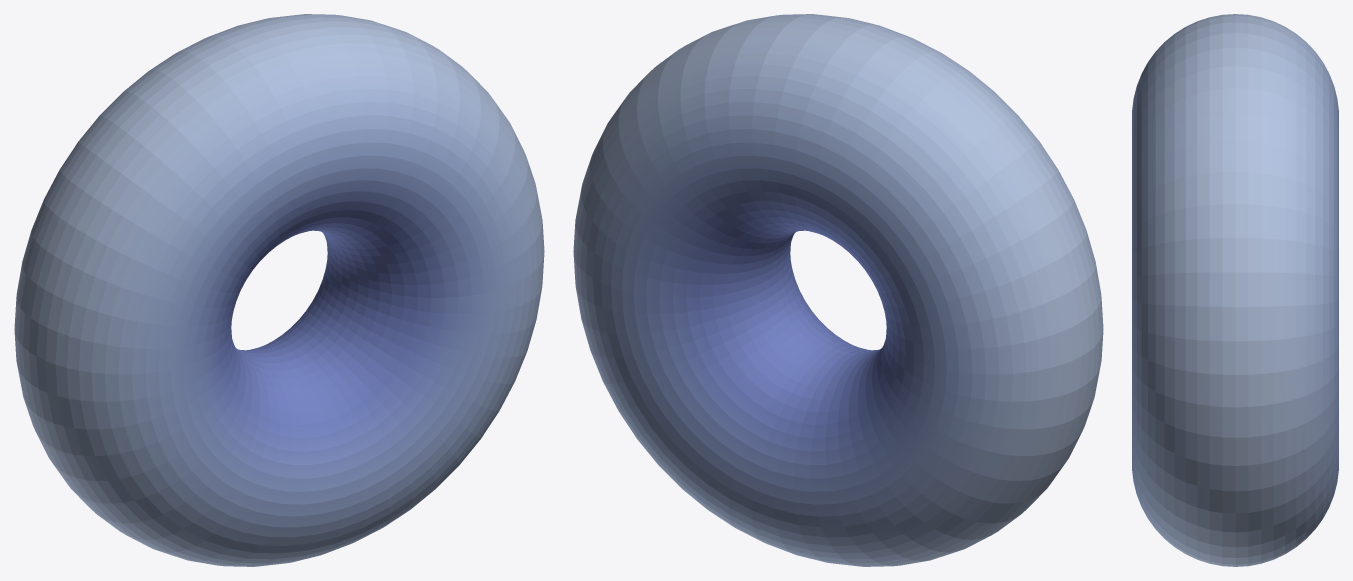
3 renders of one model, left to right at view 1: azimuth 30°, elevation 25°; view 2: azimuth 150°, elevation 25°; view 3: azimuth 270°, elevation 25°, orthographic. The views are drawn at different scales.
Visible parts, largest first — view 1: world; view 2: world; view 3: world.
Part boxes in pixels (x1,y1,x2,y2): world: (14, 14, 544, 566); world: (573, 14, 1103, 566); world: (1132, 14, 1338, 566).
Bounding box in the file's own units: 18.13 × 18.1 × 6.79.
